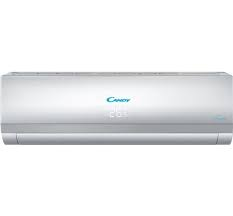ac: (1, 70, 233, 147)
